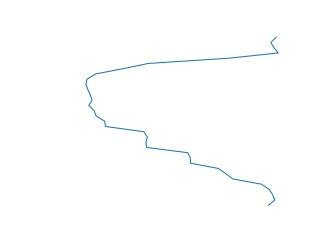mouthBar: (82, 40, 281, 209)
